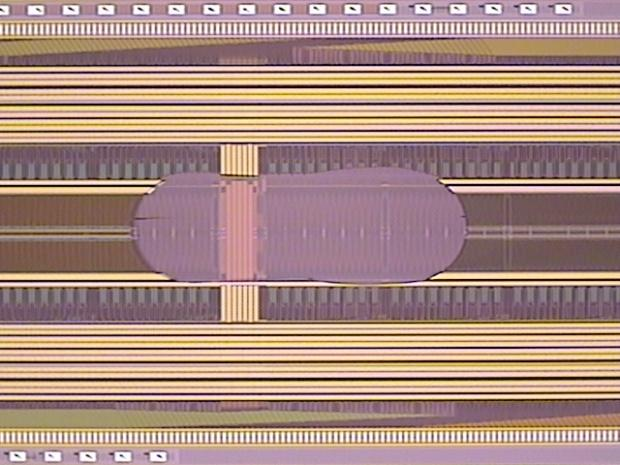BLOCK ETCH: (123, 162, 475, 296)
